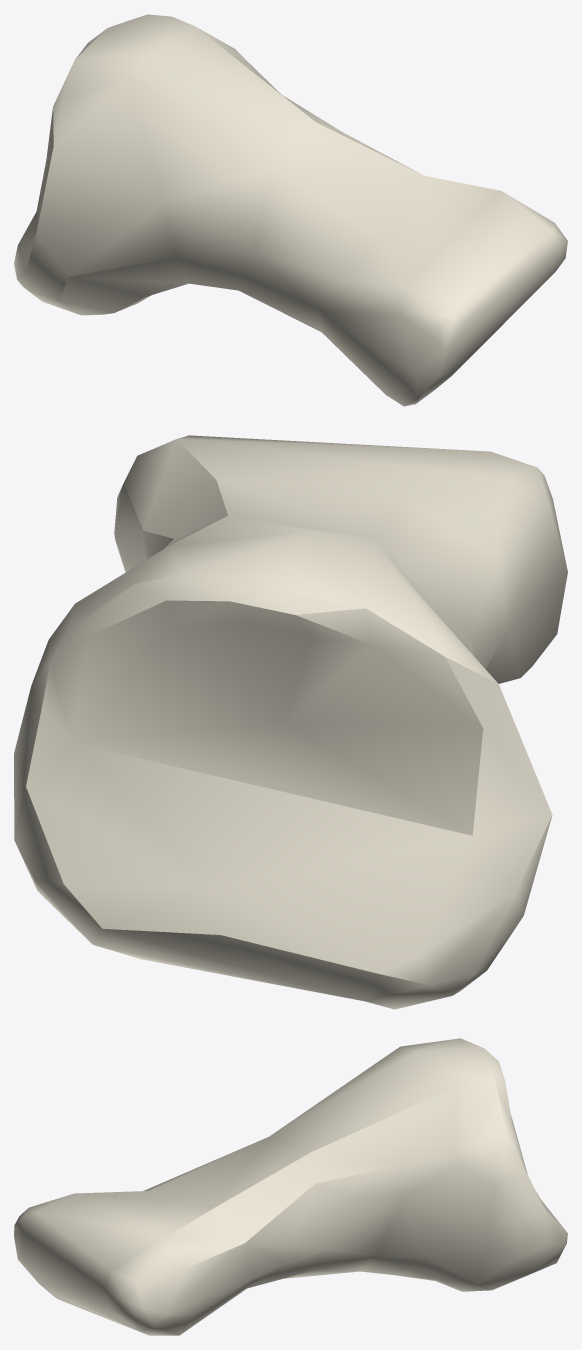
The model's file is fma32645_fj3294.glb.
3 views of the same model, one above another, from view 1: azimuth 30°, elevation 25°; view 2: azimuth 150°, elevation 25°; view 3: azimuth 270°, elevation 25° (orthographic). The views are drawn at different scales.
Parts seen in each view (by area): view 1: FMA32645_FJ3294; view 2: FMA32645_FJ3294; view 3: FMA32645_FJ3294.
Boxes of the visible parts, x1,y1,x2,y2 form: FMA32645_FJ3294: (14, 14, 567, 406); FMA32645_FJ3294: (14, 435, 567, 1009); FMA32645_FJ3294: (14, 1038, 567, 1335).
Bounding box in the file's own units: 0.0129 × 0.00787 × 0.0169.
